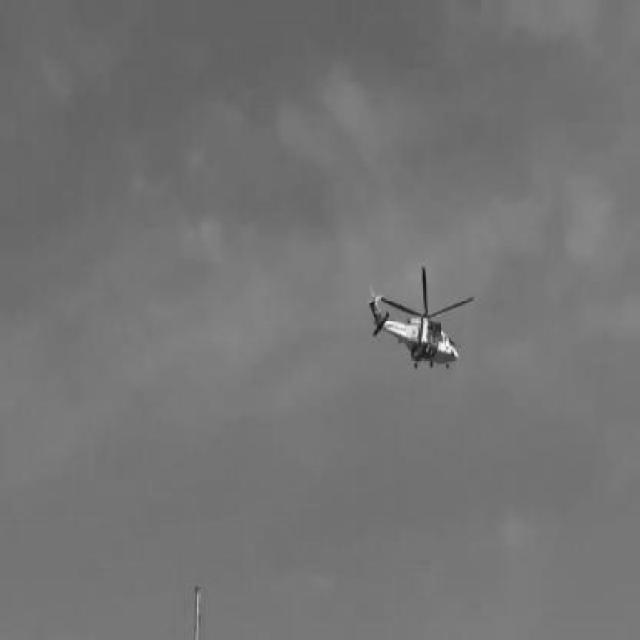helikopter: (368, 264, 474, 368)
